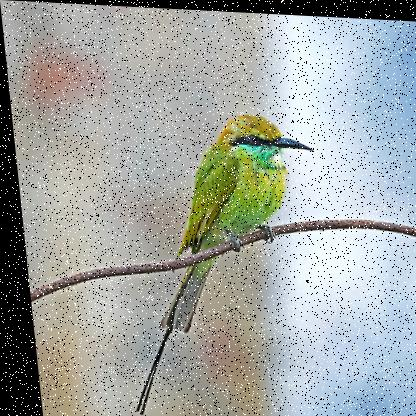Burung: (102, 105, 334, 415)
